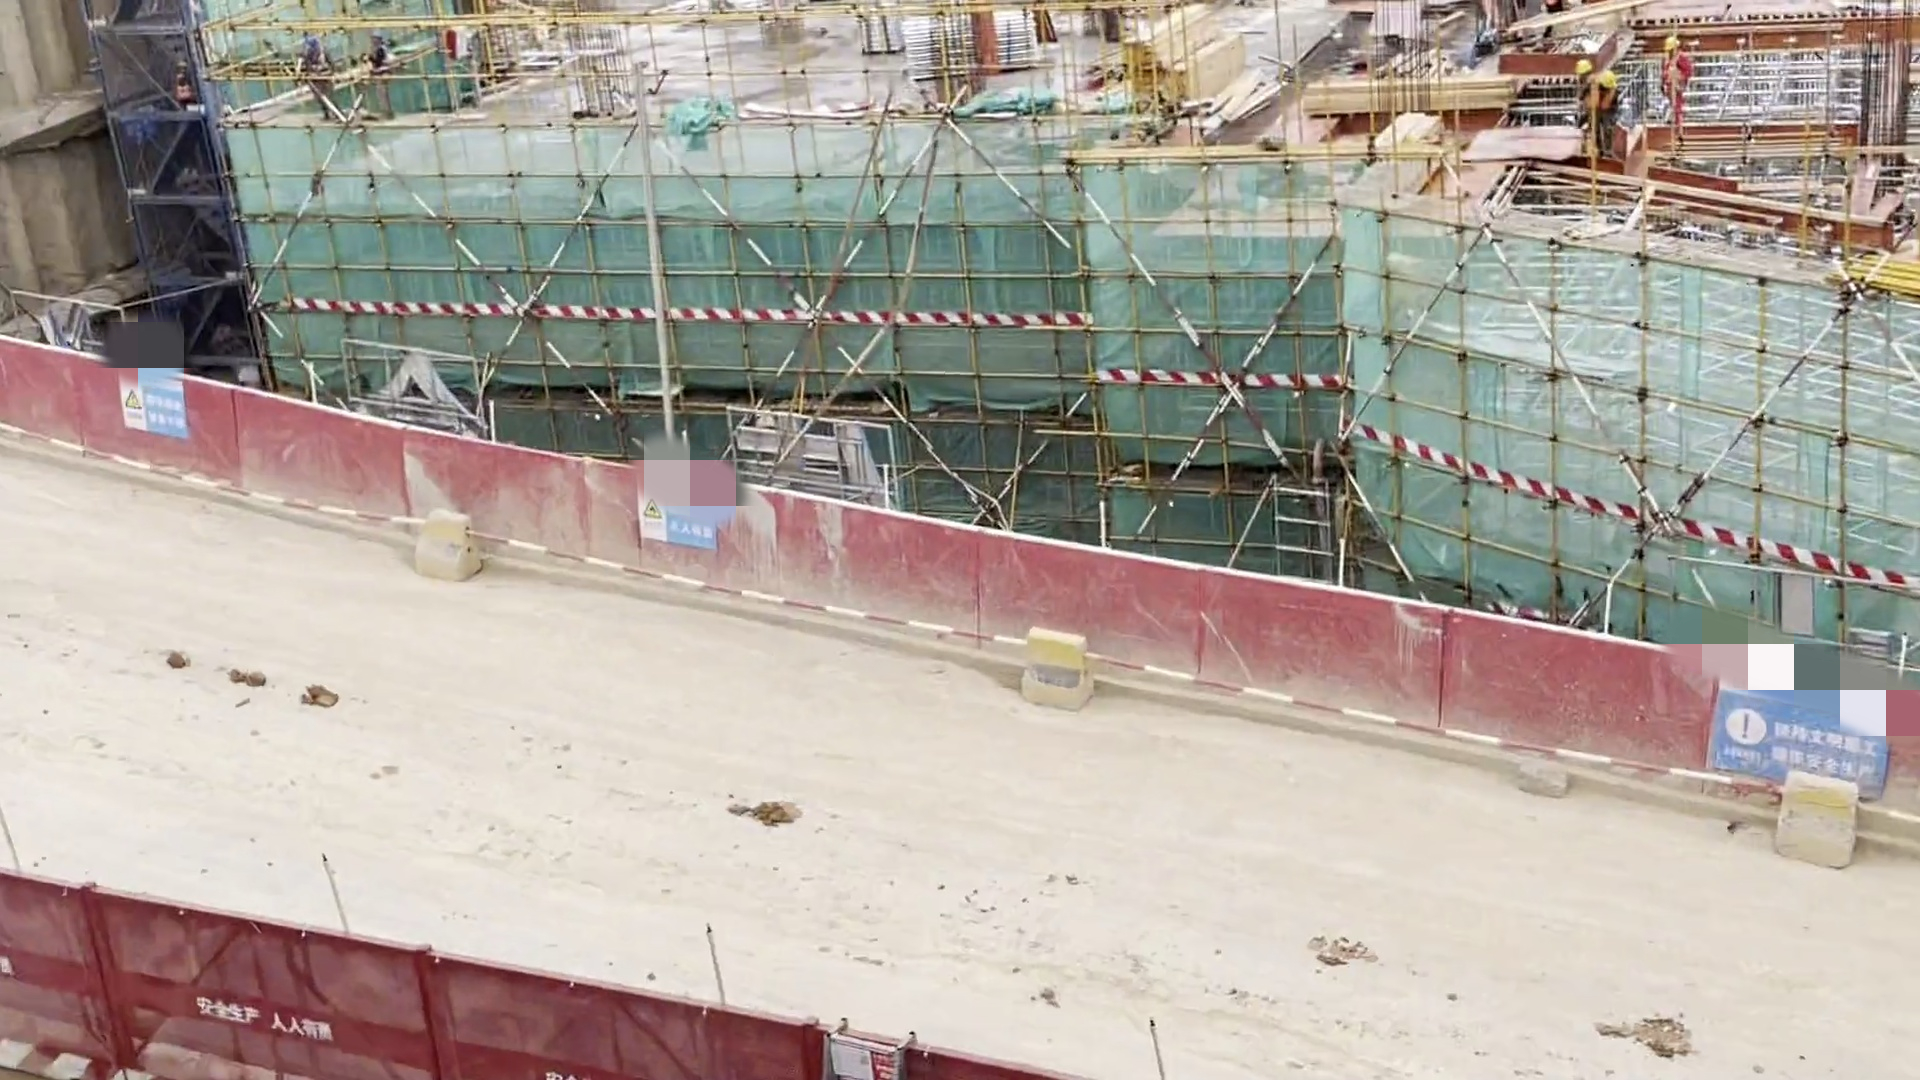fence: (12, 316, 1780, 824)
helmet: (1599, 67, 1624, 93), (1661, 28, 1685, 53), (1575, 55, 1597, 77)
person: (1661, 27, 1698, 131), (1590, 73, 1634, 152), (1563, 46, 1603, 120)
scaffold: (882, 1, 1057, 72)
slogan: (1716, 670, 1904, 782), (130, 375, 201, 454), (644, 481, 720, 549)
